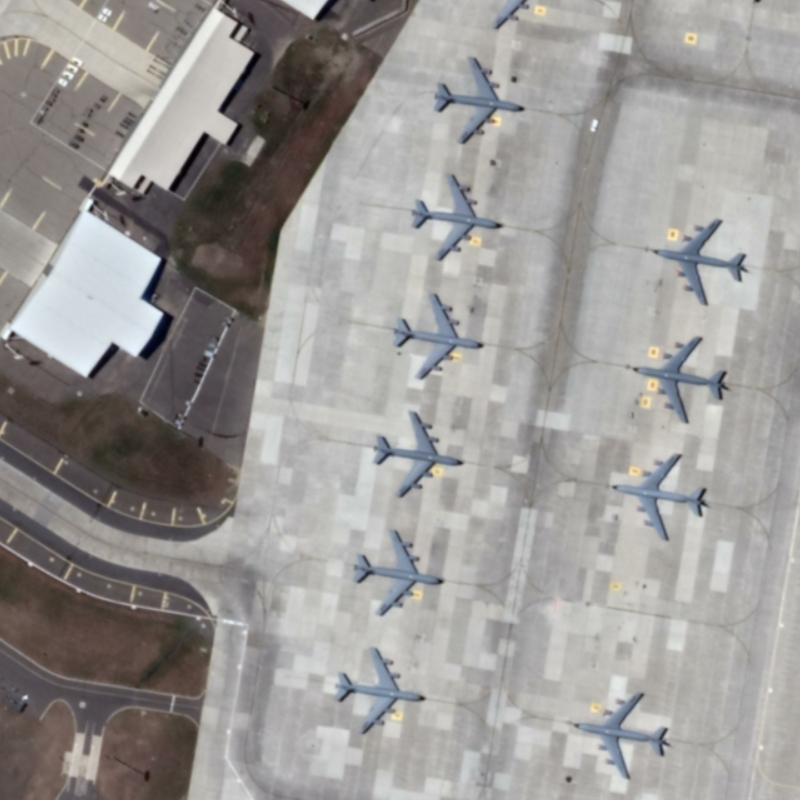A14: (599, 447, 726, 545), (627, 321, 737, 428), (647, 208, 755, 313), (428, 50, 532, 151), (386, 282, 489, 383), (574, 683, 677, 784), (345, 526, 458, 618), (369, 406, 473, 500), (410, 169, 509, 266), (330, 646, 432, 739)
